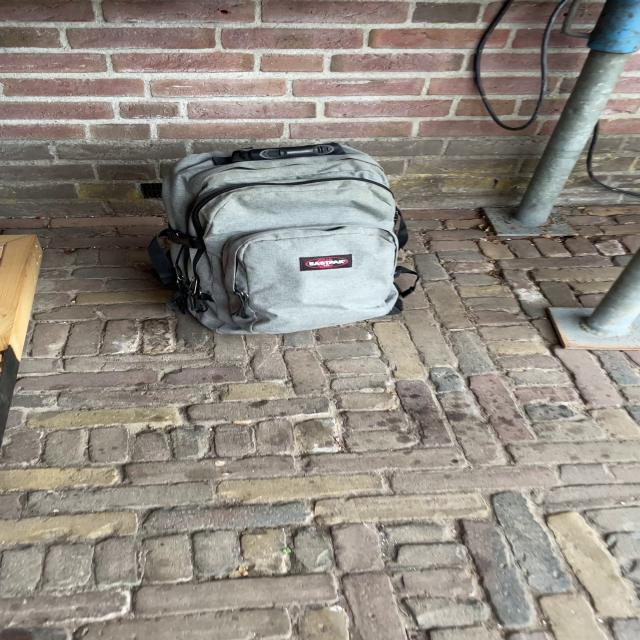backpack: (138, 135, 422, 339)
